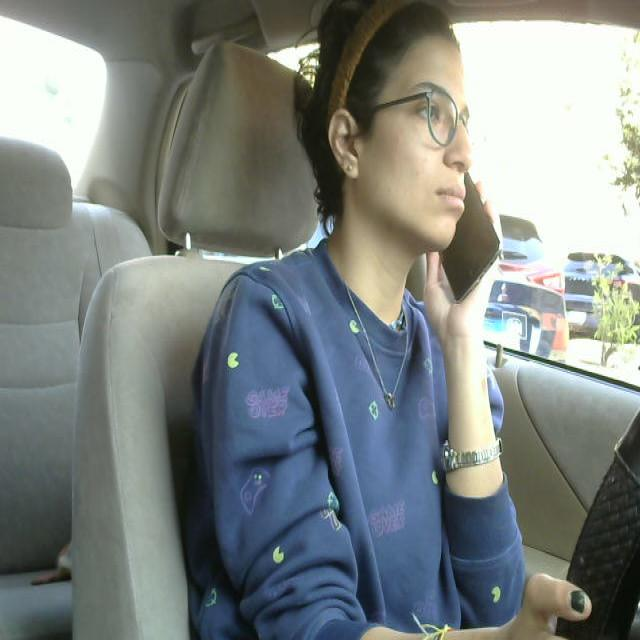mobile use: (433, 171, 504, 305)
